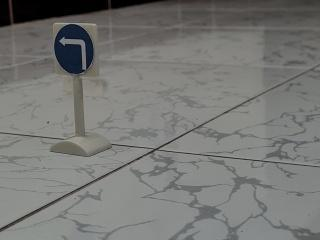left: (51, 22, 101, 77)
